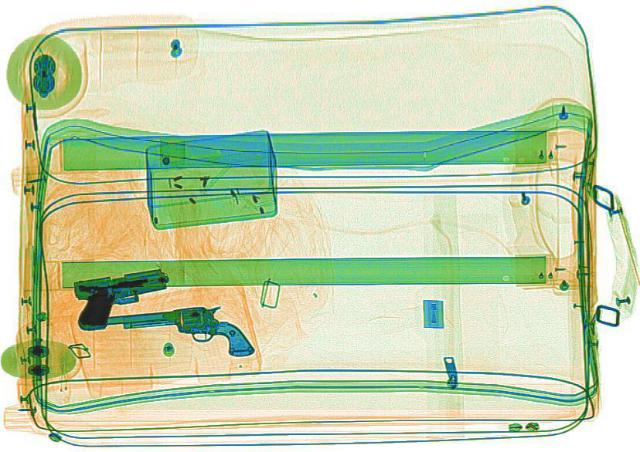Gun: (70, 299, 256, 372), (51, 262, 180, 333)
